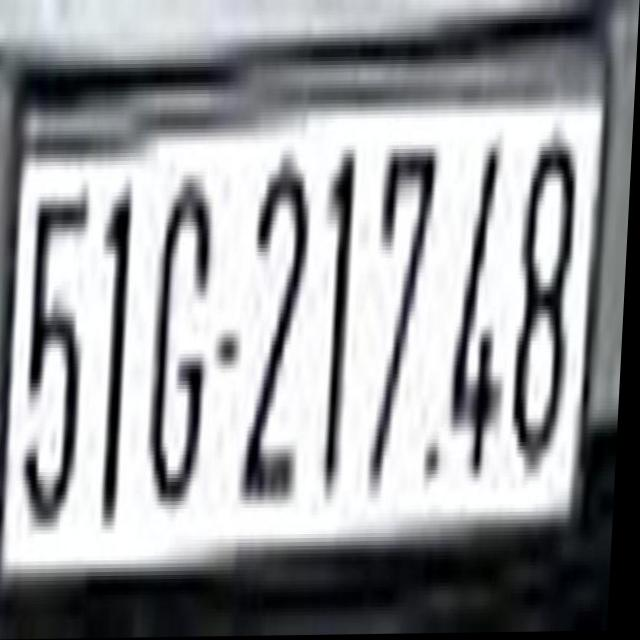1: (314, 139, 361, 505), (96, 169, 140, 526)
2: (243, 159, 324, 521)
4: (452, 133, 518, 468)
5: (21, 181, 92, 531)
7: (364, 127, 440, 523)
8: (512, 144, 578, 479)
G: (151, 176, 215, 495)
